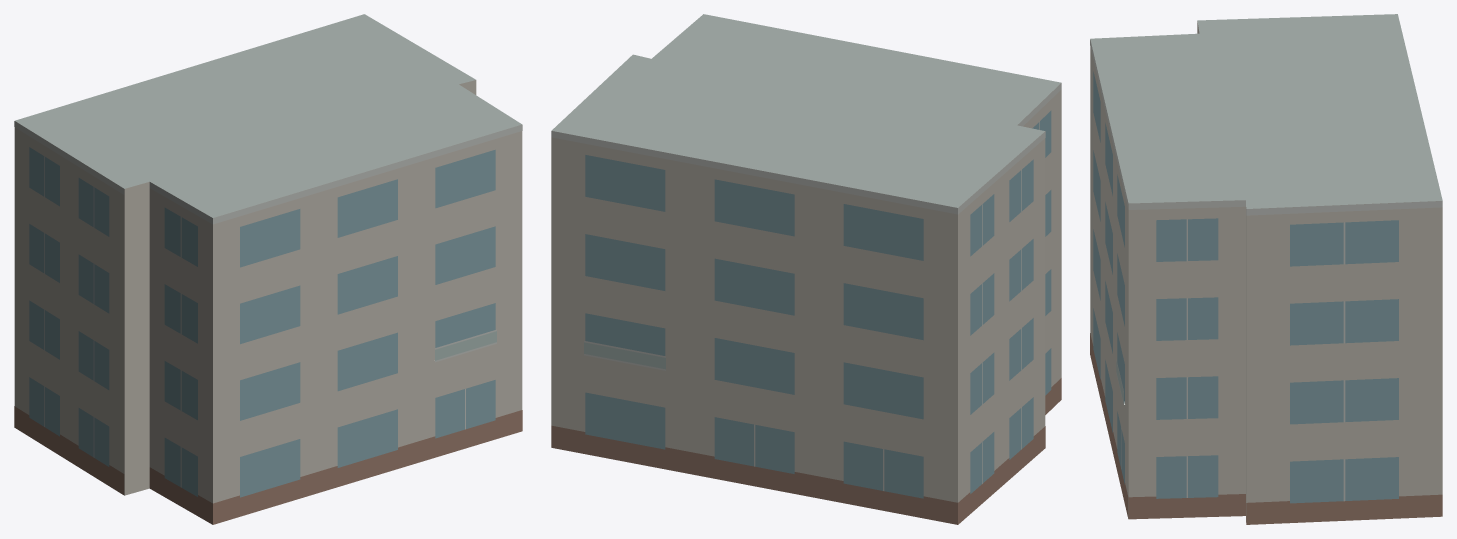
The model's file is survey-upis-32654812.glb.
3 views of the same model, side by side, from view 1: azimuth 30°, elevation 25°; view 2: azimuth 150°, elevation 25°; view 3: azimuth 270°, elevation 25° (orthographic). The views are drawn at different scales.
Visible parts, largest first — view 1: survey-upis-32654812.tmp; view 2: survey-upis-32654812.tmp; view 3: survey-upis-32654812.tmp.
Boxes of the visible parts, <box> form: survey-upis-32654812.tmp: <box>14,14,522,524</box>; survey-upis-32654812.tmp: <box>551,14,1061,524</box>; survey-upis-32654812.tmp: <box>1090,14,1442,524</box>.
Bounding box in the file's own units: 15.51 × 11.7 × 11.85.
